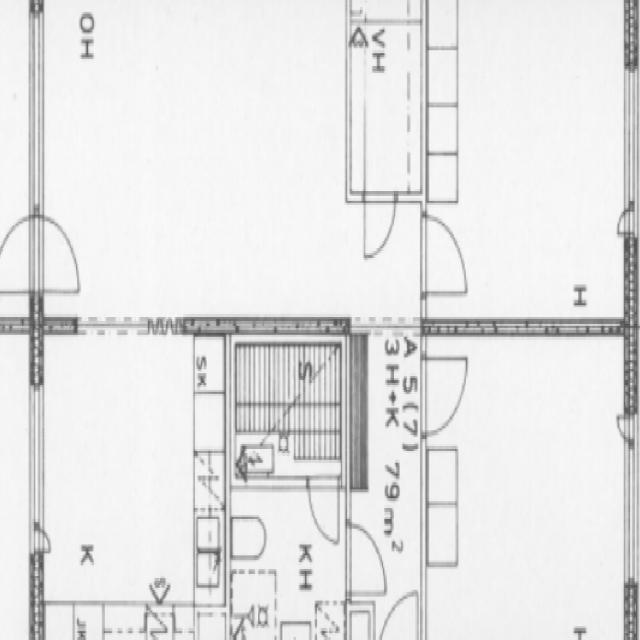door: (29, 216, 83, 294), (418, 358, 466, 436), (418, 217, 466, 294), (0, 216, 43, 294), (344, 524, 388, 594), (377, 583, 417, 640), (364, 189, 394, 260), (308, 478, 338, 544)
